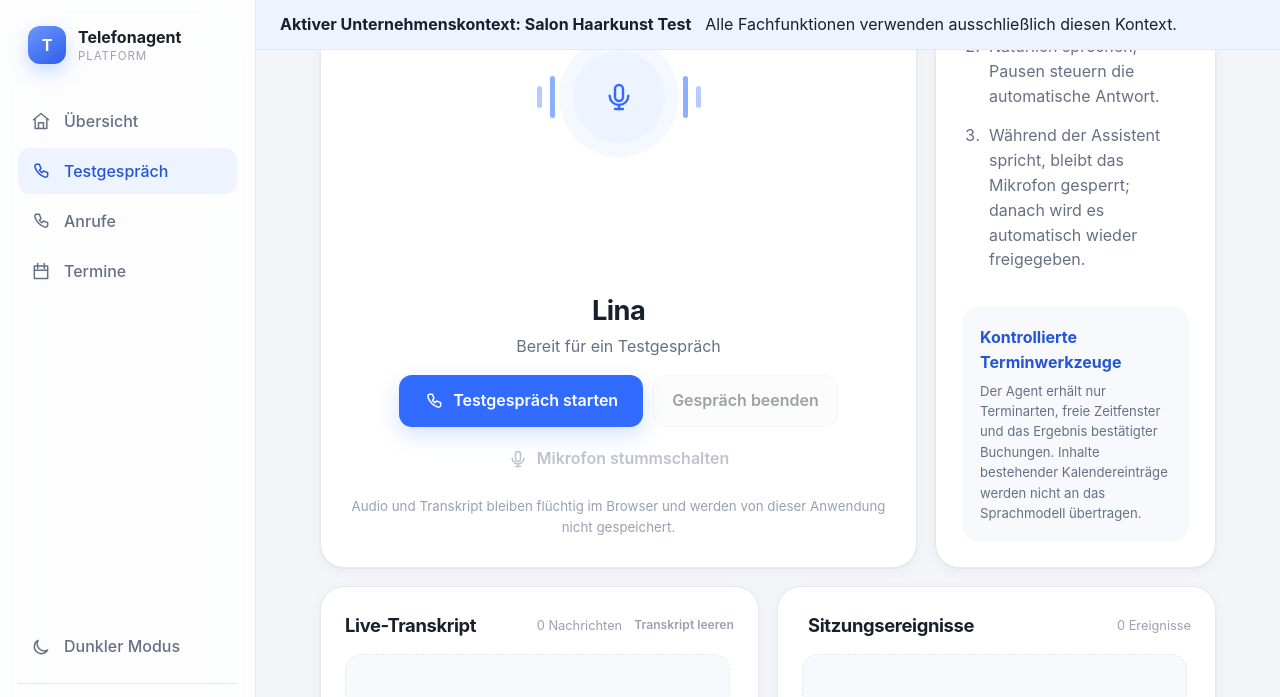
Test: Realtime browser voice flow › erklärt eine verweigerte Mikrofonfreigabe verständlich
(page scrolled)
Click the button "Testgespräch starten": click(521, 401) [399, 375, 643, 427]
(page scrolled)
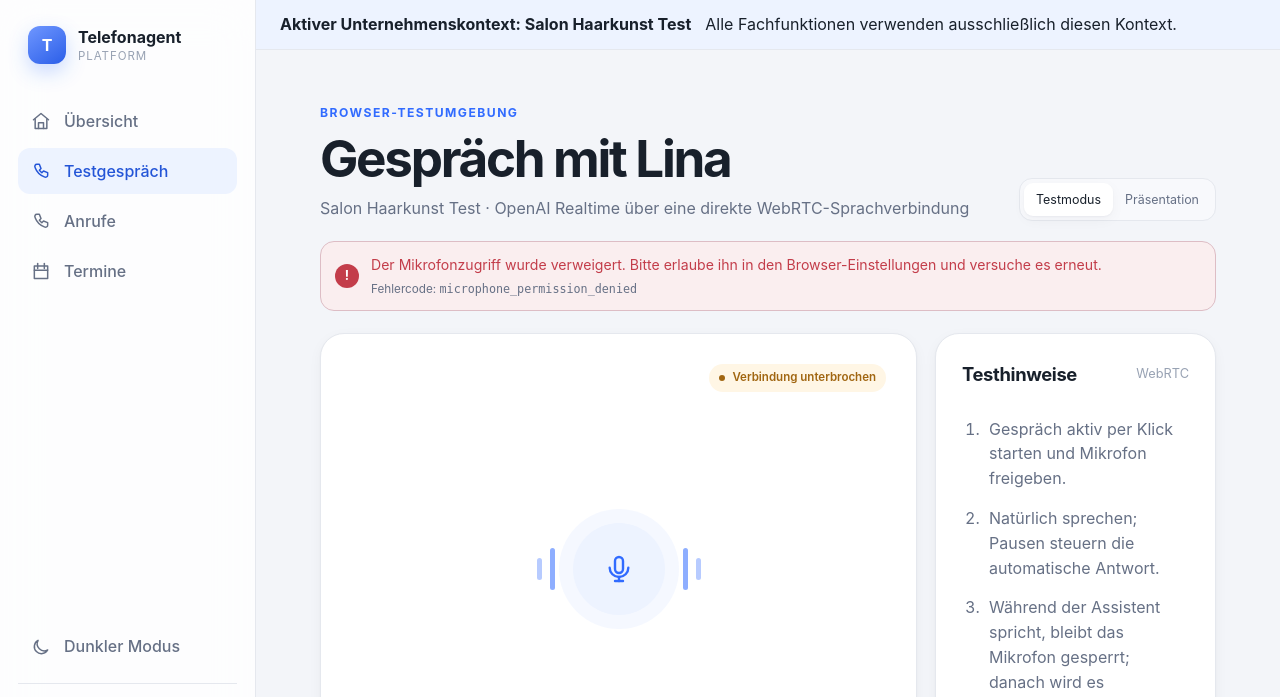
Check: the message shows "Mikrofonzugriff wurde verweigert", box [371, 256, 1102, 273]
